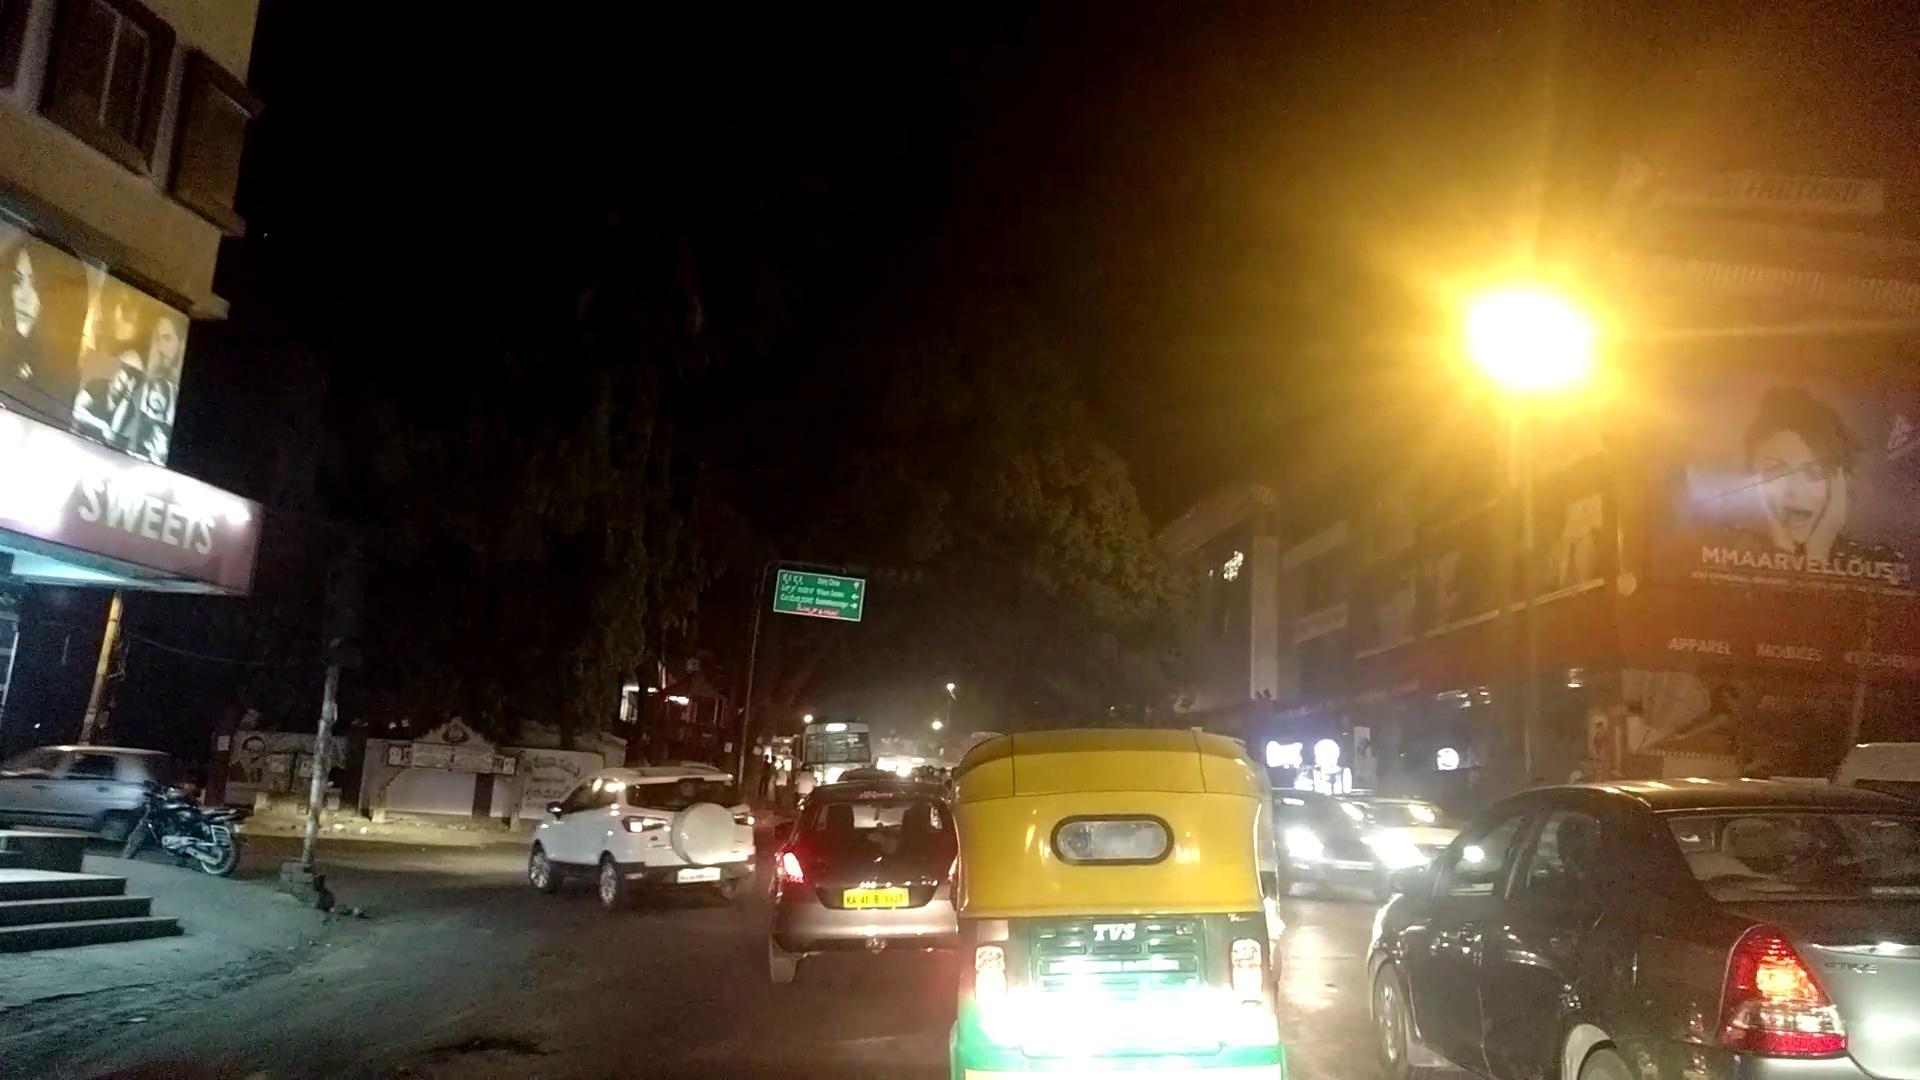on: (1320, 82, 1807, 547)
